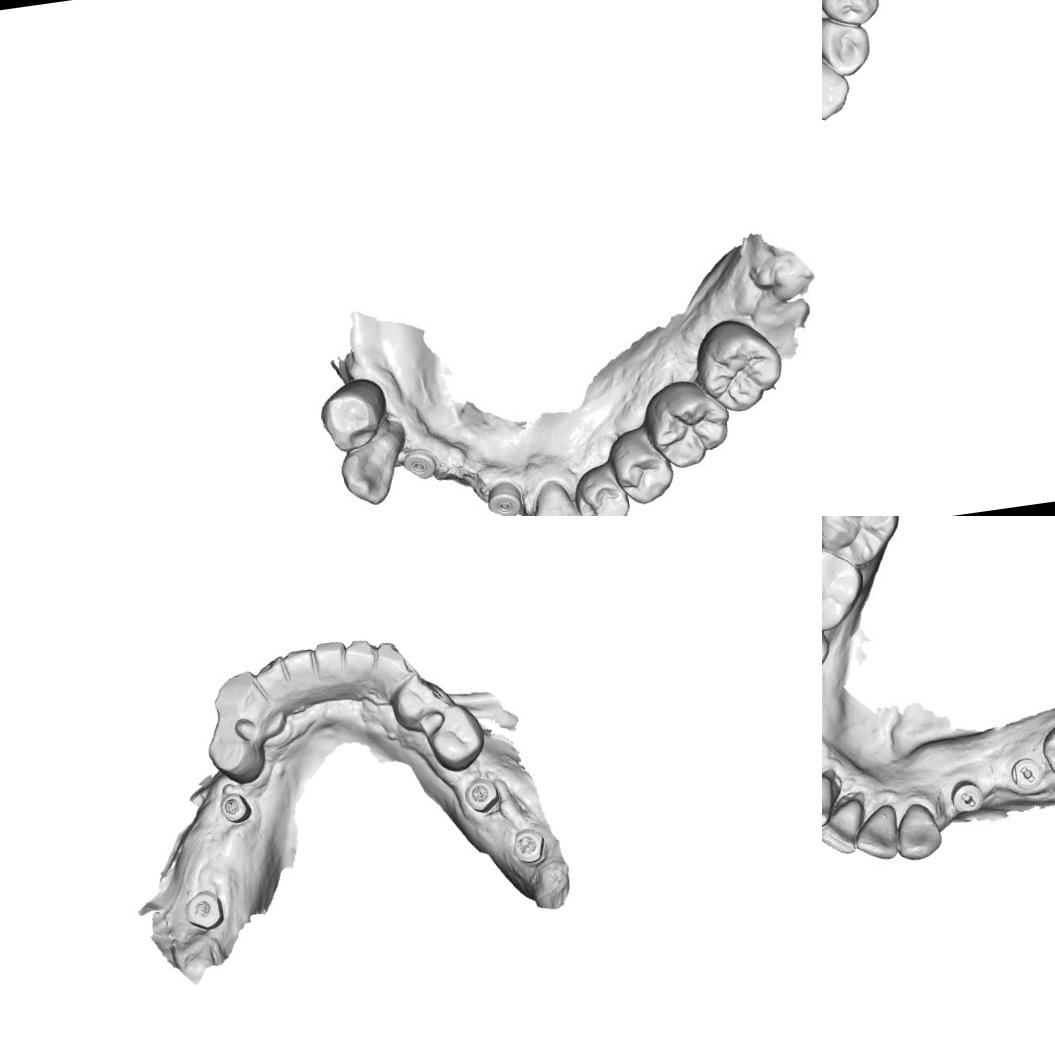canine: (338, 432, 403, 507), (891, 798, 944, 865), (209, 668, 265, 728), (822, 45, 853, 124), (525, 477, 586, 516), (371, 638, 418, 684)
implant: (178, 887, 228, 935), (509, 824, 550, 869), (460, 775, 502, 816), (402, 442, 441, 482), (216, 788, 255, 828), (486, 478, 521, 516)
implant_minus: (946, 769, 988, 817), (1004, 751, 1042, 796)
incisor: (850, 801, 902, 865), (822, 802, 868, 859), (252, 654, 294, 706), (341, 637, 382, 686), (282, 646, 321, 694), (312, 638, 350, 684), (822, 770, 840, 835)
molar: (691, 312, 786, 418), (638, 374, 732, 472), (822, 540, 870, 639), (822, 516, 904, 571)
premolar: (316, 380, 393, 456), (424, 700, 490, 776), (612, 431, 678, 506), (201, 716, 269, 788), (386, 667, 456, 735), (822, 10, 873, 80), (574, 469, 631, 516), (822, 0, 882, 30)
